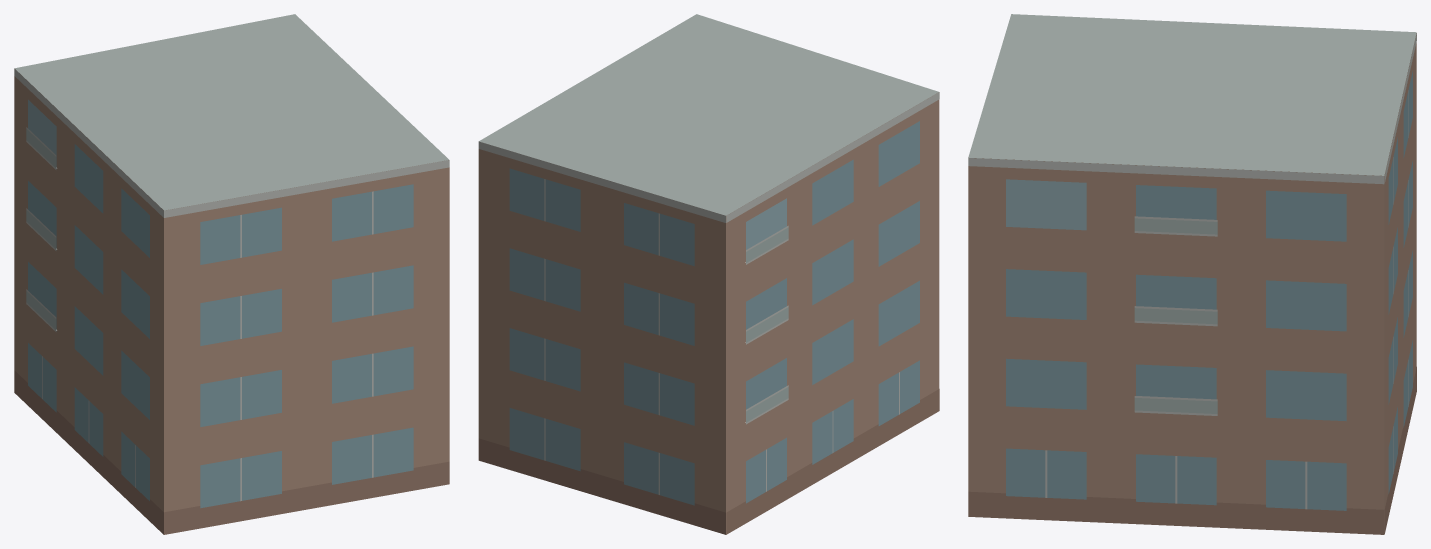
Rendered from survey-upis-32567178.glb.
The picture shows the model from 3 angles, left to right: view 1: azimuth 30°, elevation 25°; view 2: azimuth 150°, elevation 25°; view 3: azimuth 270°, elevation 25°; orthographic projection. The views are drawn at different scales.
Visible parts, largest first — view 1: survey-upis-32567178.tmp; view 2: survey-upis-32567178.tmp; view 3: survey-upis-32567178.tmp.
Boxes of the visible parts, x1=… form: survey-upis-32567178.tmp: x1=14, y1=14, x2=449, y2=534; survey-upis-32567178.tmp: x1=478, y1=14, x2=939, y2=534; survey-upis-32567178.tmp: x1=968, y1=14, x2=1416, y2=534.
Size of the model in its own units: 10.16 by 10.5 by 11.9.
